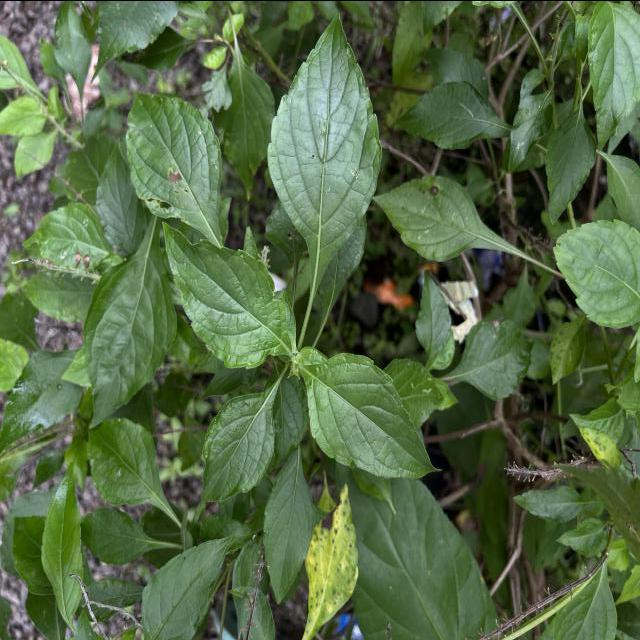Ocimum gratissimum: (266, 5, 384, 306), (74, 220, 182, 430), (158, 218, 299, 370), (298, 348, 446, 481), (124, 86, 228, 246), (371, 170, 539, 265), (138, 527, 243, 640), (82, 410, 180, 520), (198, 378, 282, 504), (550, 216, 640, 330), (262, 442, 318, 606), (392, 76, 510, 152), (39, 460, 88, 630), (584, 0, 638, 152)
